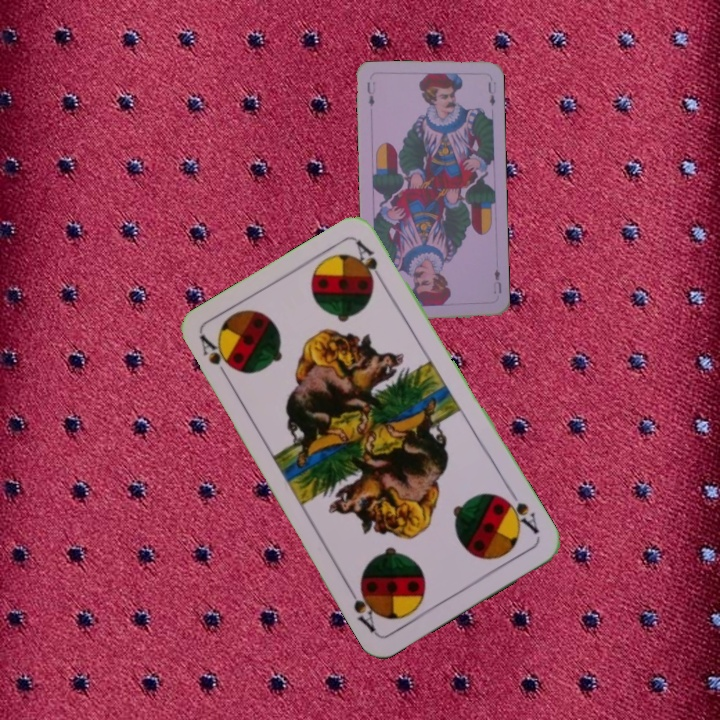EU: (363, 77, 378, 109), (490, 265, 504, 296)
SA: (196, 332, 235, 386), (497, 492, 542, 537)
